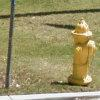Hydrant: (65, 9, 97, 89)
